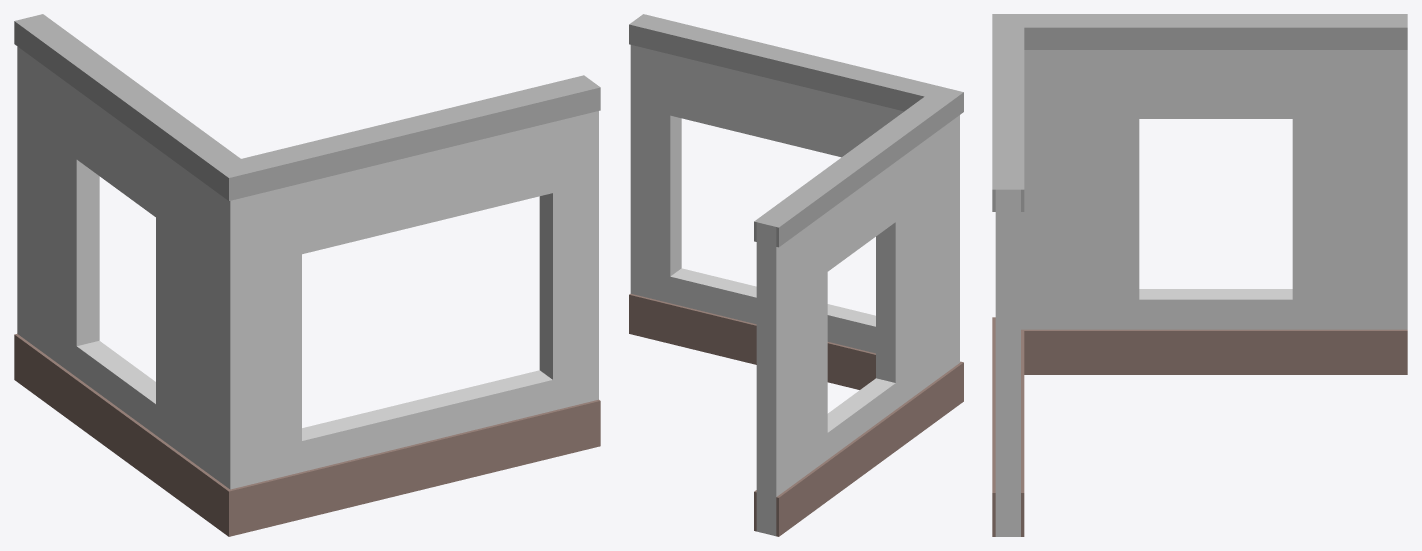
File: Wall05-04.fbx
3 renders of one model, left to right at view 1: azimuth 30°, elevation 25°; view 2: azimuth 150°, elevation 25°; view 3: azimuth 270°, elevation 25°, orthographic. The views are drawn at different scales.
Visible parts, largest first — view 1: Wall05-04; view 2: Wall05-04; view 3: Wall05-04.
Part boxes in pixels (<box>): Wall05-04: <box>14,14,600,536</box>; Wall05-04: <box>629,14,963,536</box>; Wall05-04: <box>992,14,1407,536</box>.
Bounding box in the file's own units: 3.25 × 3.25 × 3.
